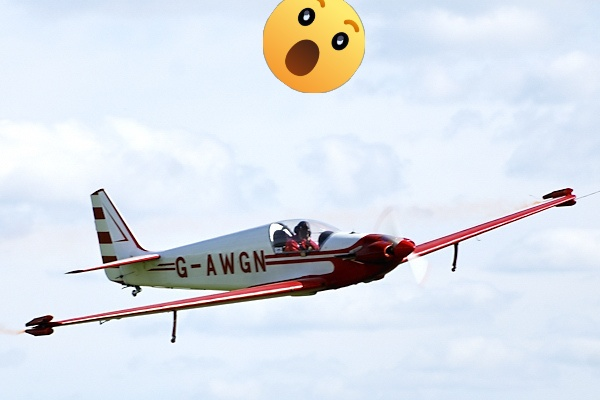wow: (263, 0, 365, 93)
